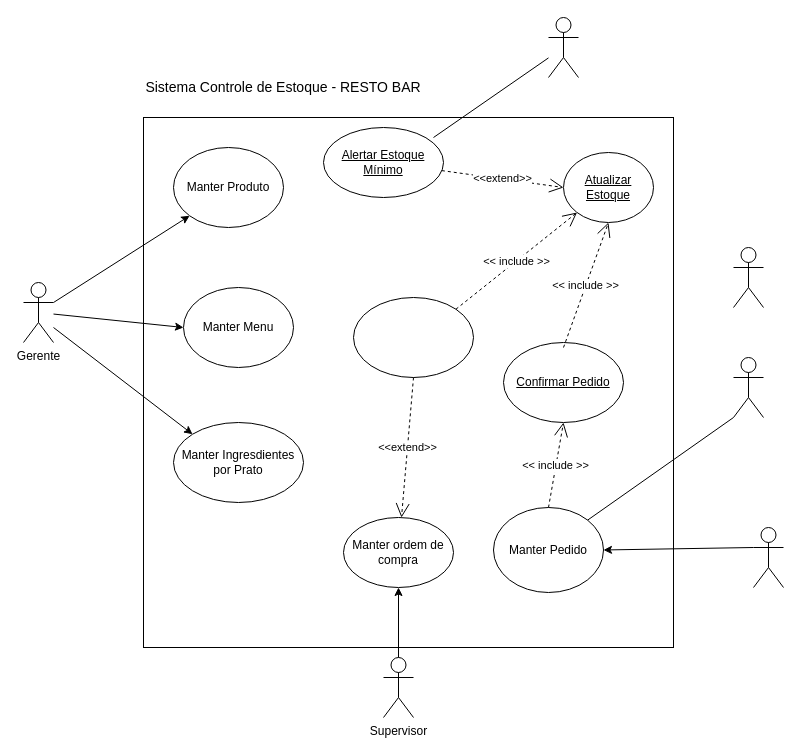
Some shapes in this 805 by 756 pixel diagram are drawn without their labels. Here are the shapes that lost their labels. From the top down, the box of each, then its label:
(548, 16, 578, 78): Supêrvisor
(732, 246, 764, 308): Actor
(352, 296, 474, 378): Baixar Ordem de Compra
(732, 356, 764, 418): Cliente
(752, 526, 784, 588): Garçon
